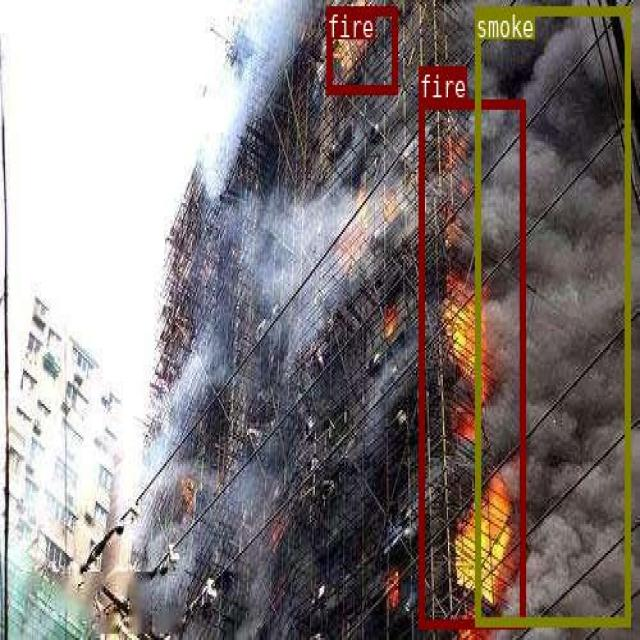fire: (418, 99, 524, 627), (326, 5, 396, 92)
smoke: (474, 4, 628, 624)
